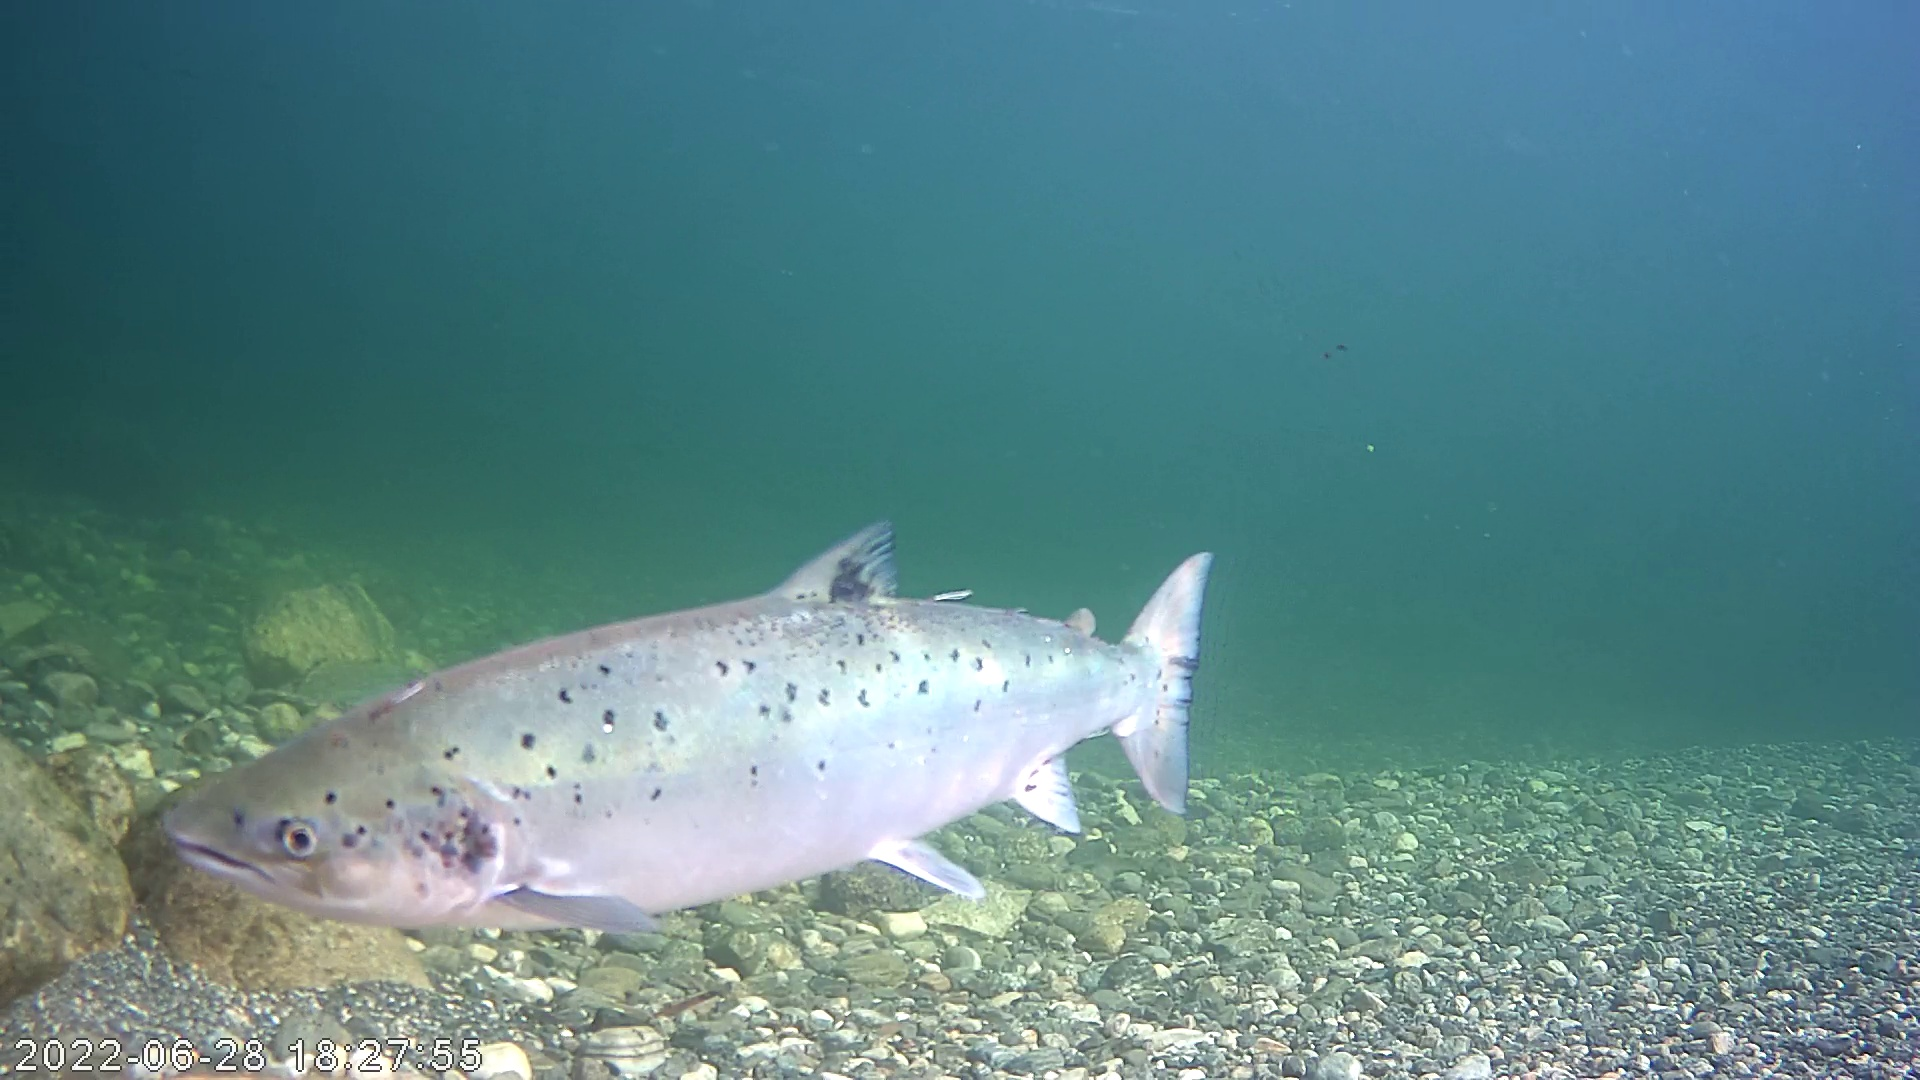salmon: (200, 450, 1232, 930)
